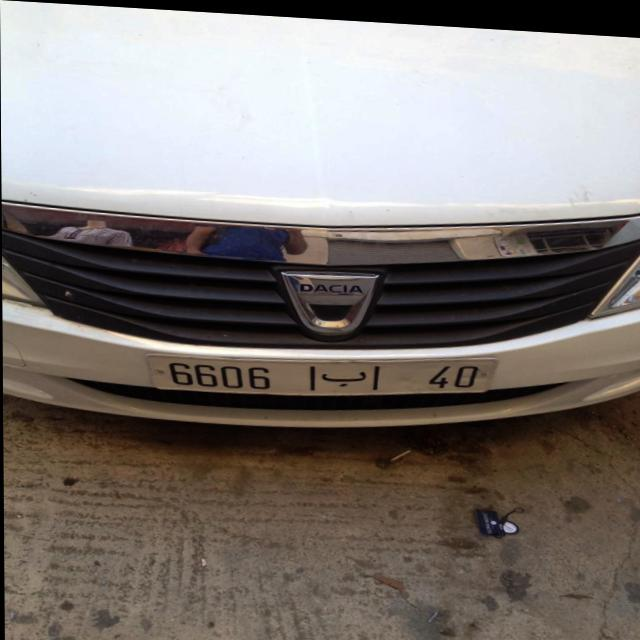License-Plate: (147, 352, 497, 392)
